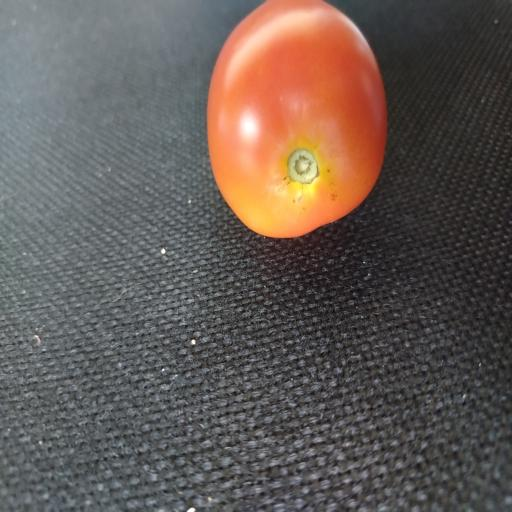ripe: (207, 0, 386, 237)
